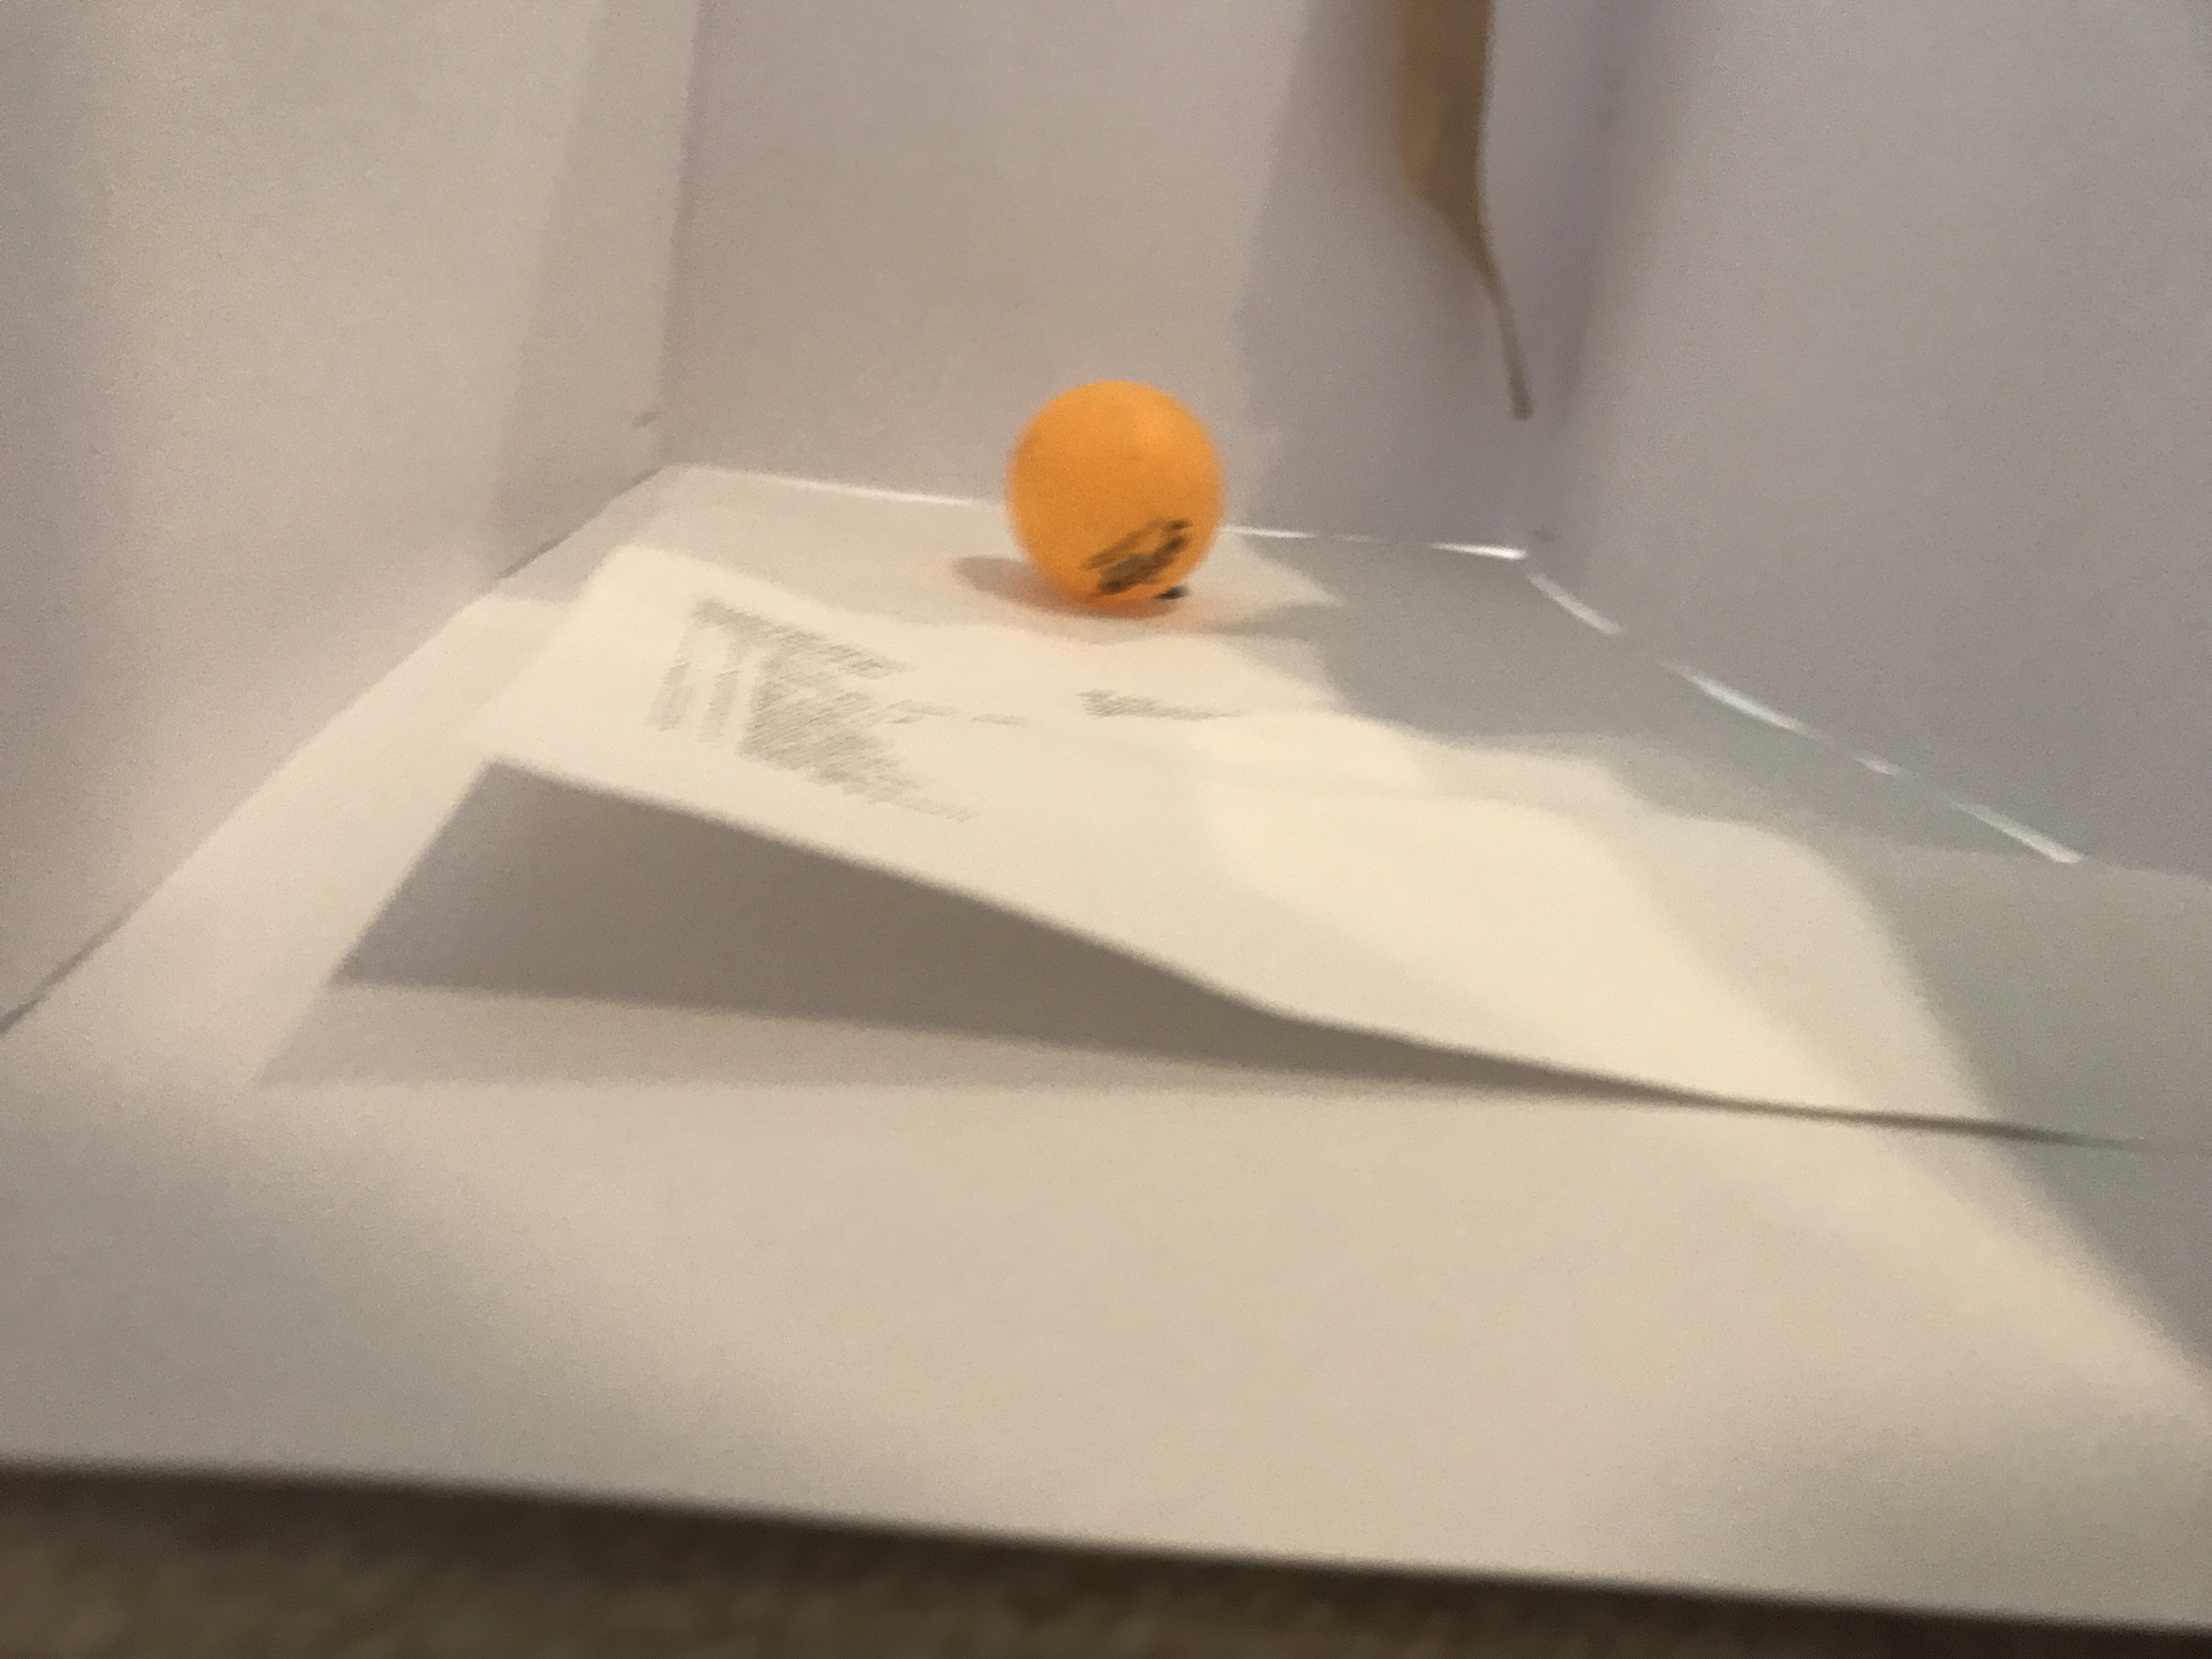pp: (1008, 380, 1233, 608)
